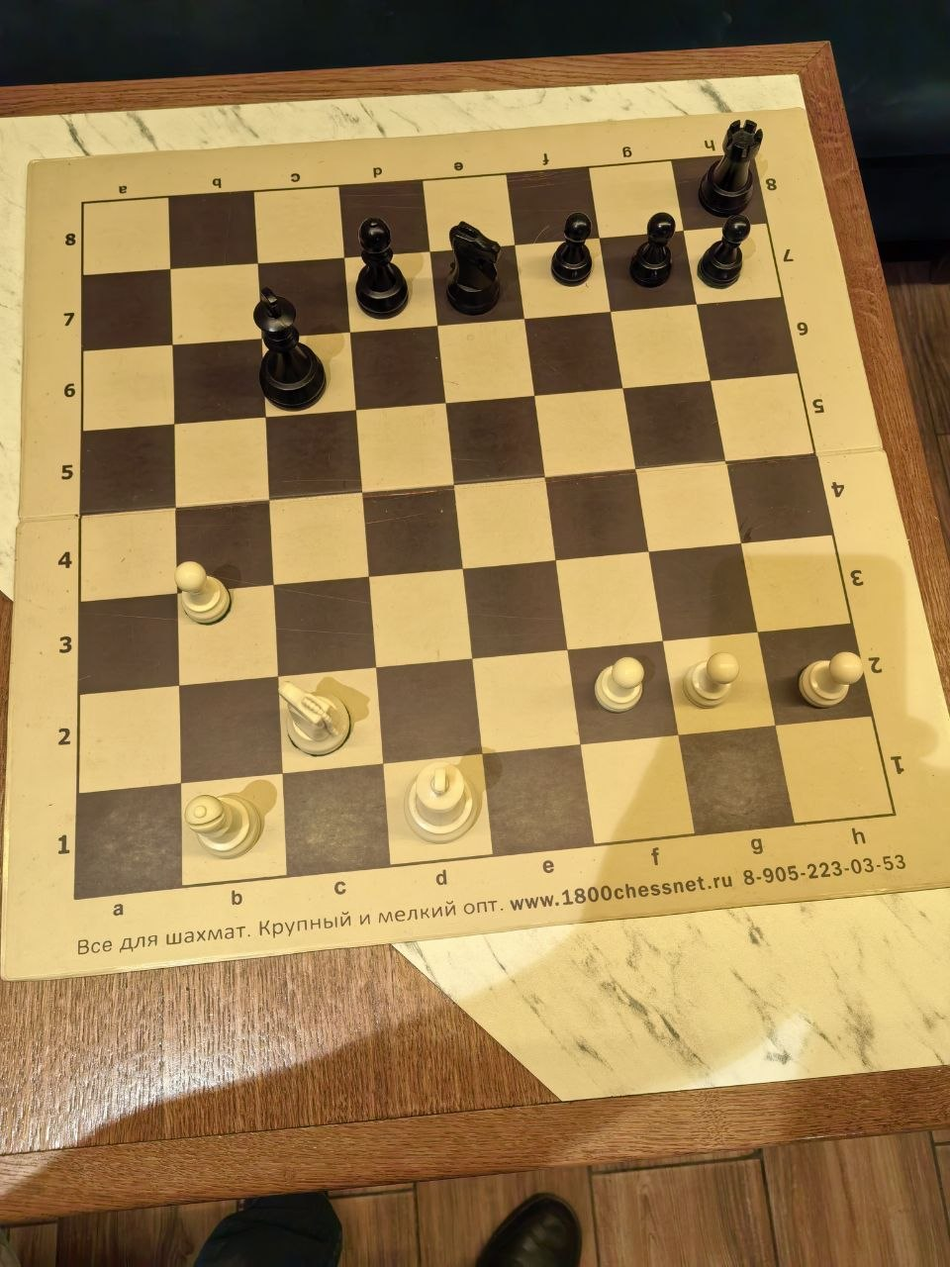black-bishop: (356, 1109, 475, 1267)
black-pawn: (119, 1109, 238, 1267)
black-queen: (238, 950, 356, 1109)
black-rook: (712, 950, 831, 1109), (831, 950, 950, 1109), (119, 792, 238, 950), (594, 950, 712, 1109)
white-bishop: (238, 317, 356, 475)
white-knight: (831, 0, 950, 158)
white-pawn: (356, 158, 475, 317)
white-queen: (475, 158, 594, 317)
white-rook: (712, 158, 831, 317), (831, 158, 950, 317), (594, 158, 712, 317)
